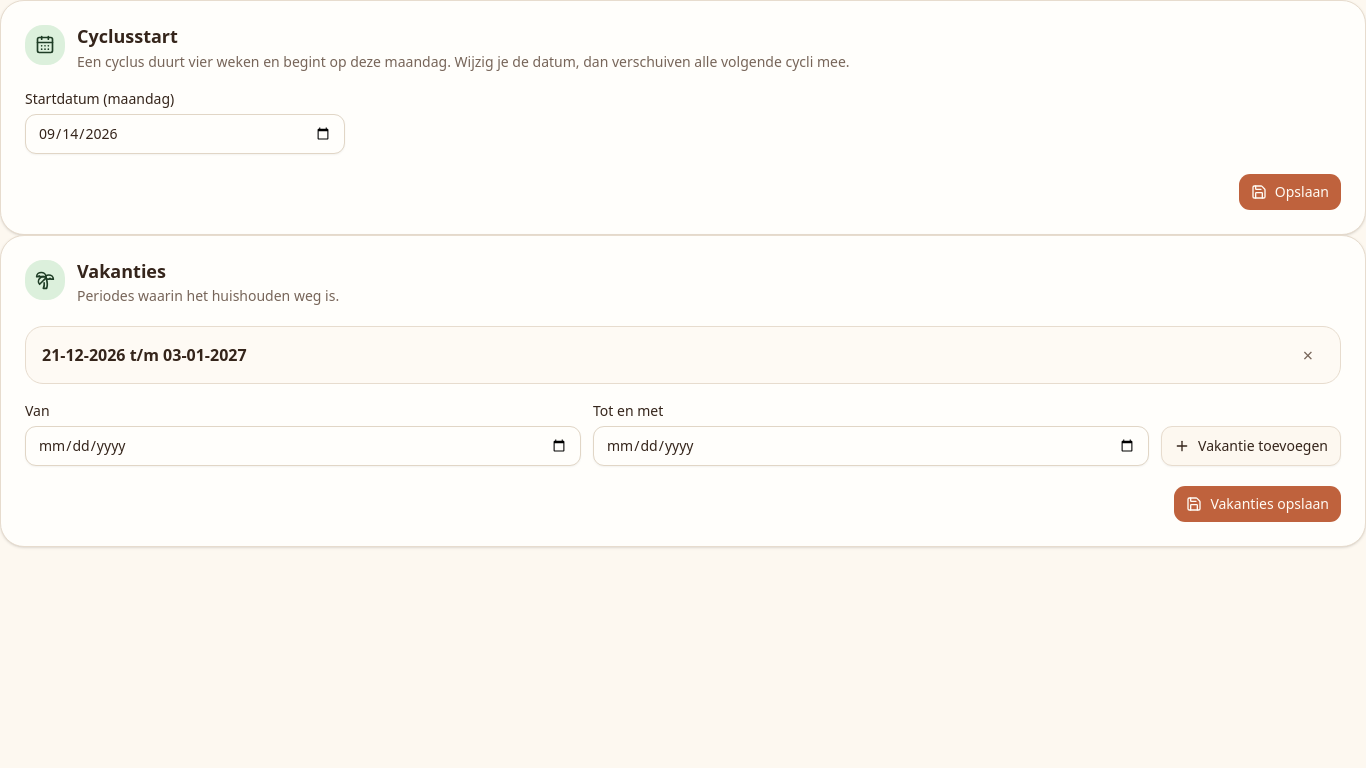
Test: CalendarSection — cycle anchor › only saves a Monday
The image size is (1366, 768).
Type "2026-10-13" into the date field labelled "Startdatum (maandag)".
click(185, 134); type("2026-10-13")  # box [25, 114, 345, 154]
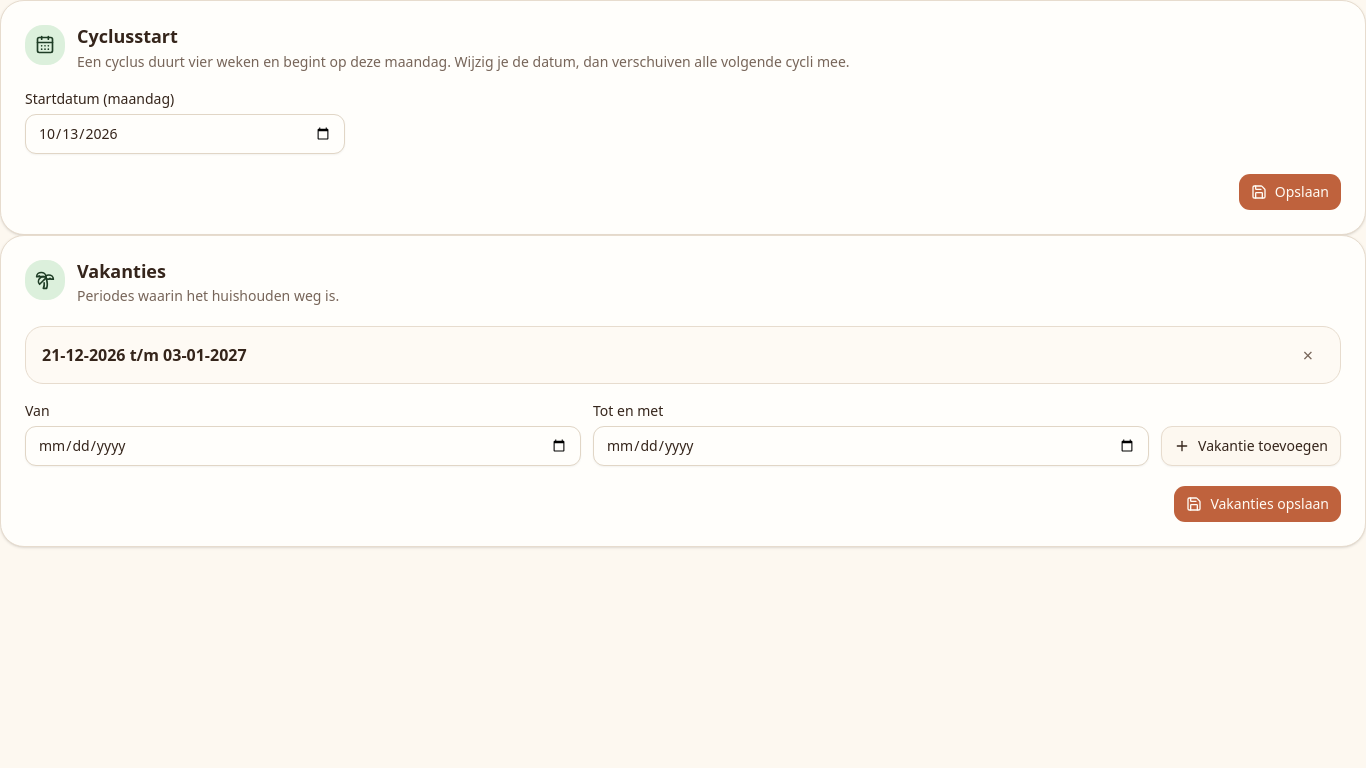
Click the button "Opslaan".
click(1290, 192)  # box [1239, 174, 1341, 210]
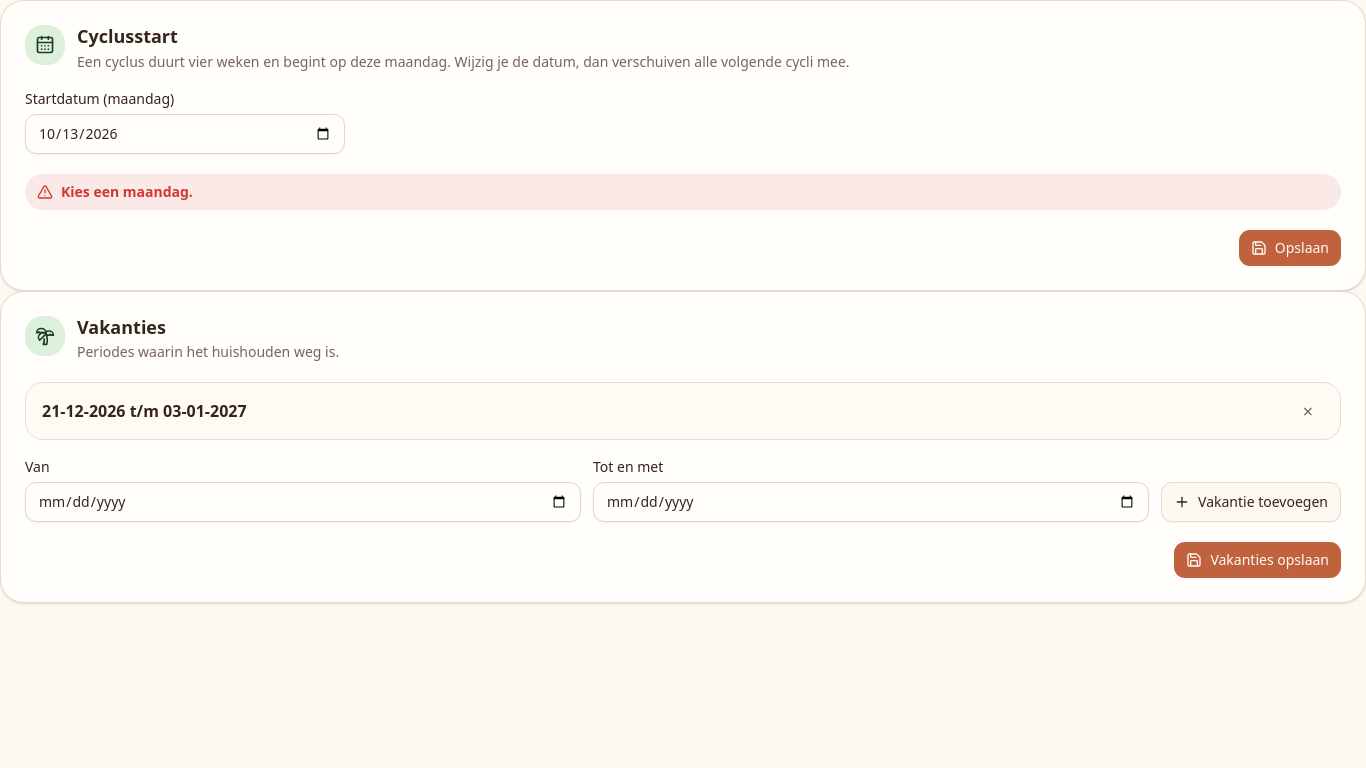
expect the message reads "Kies een maandag.": met, box [61, 182, 193, 200]
Type "2026-10-12" into the date field labelled "Startdatum (maandag)".
click(185, 134); type("2026-10-12")  # box [25, 114, 345, 154]
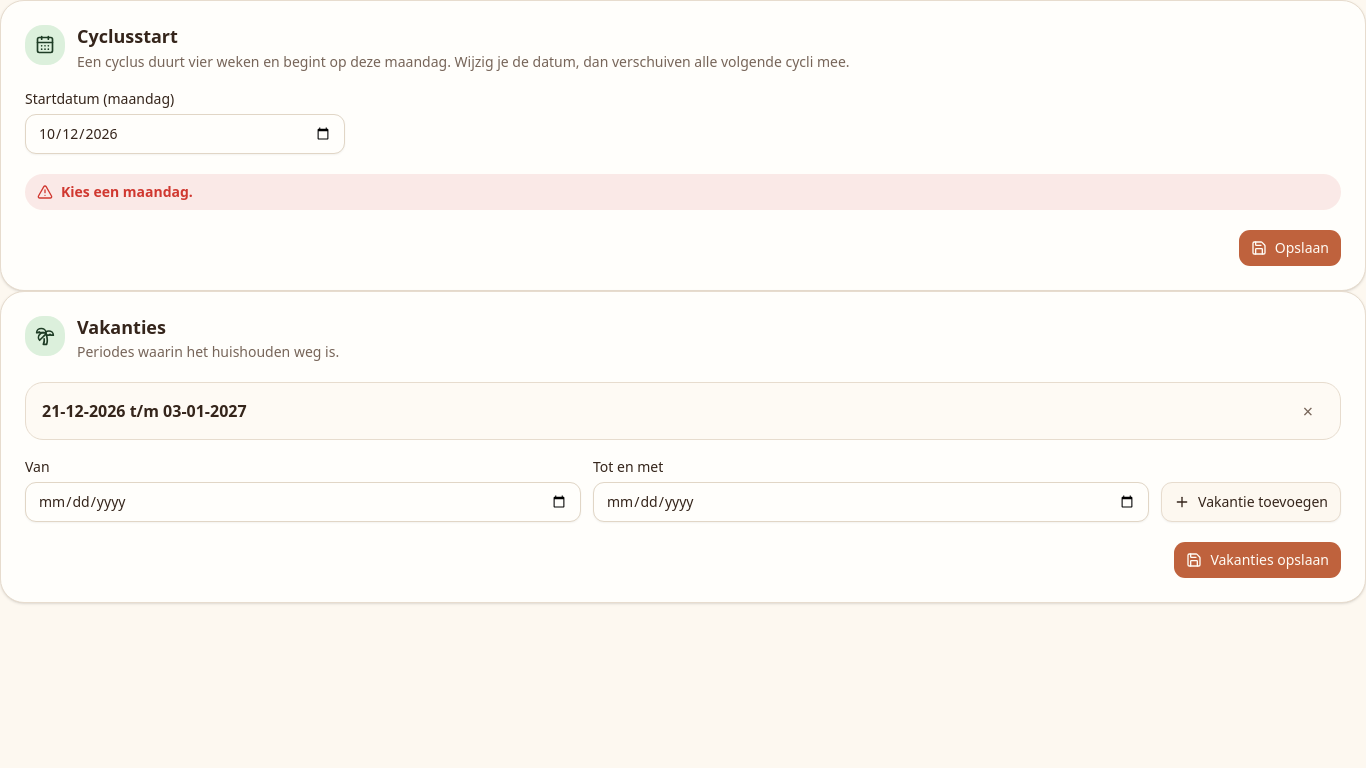
Click the button "Opslaan".
click(1290, 248)  # box [1239, 230, 1341, 266]
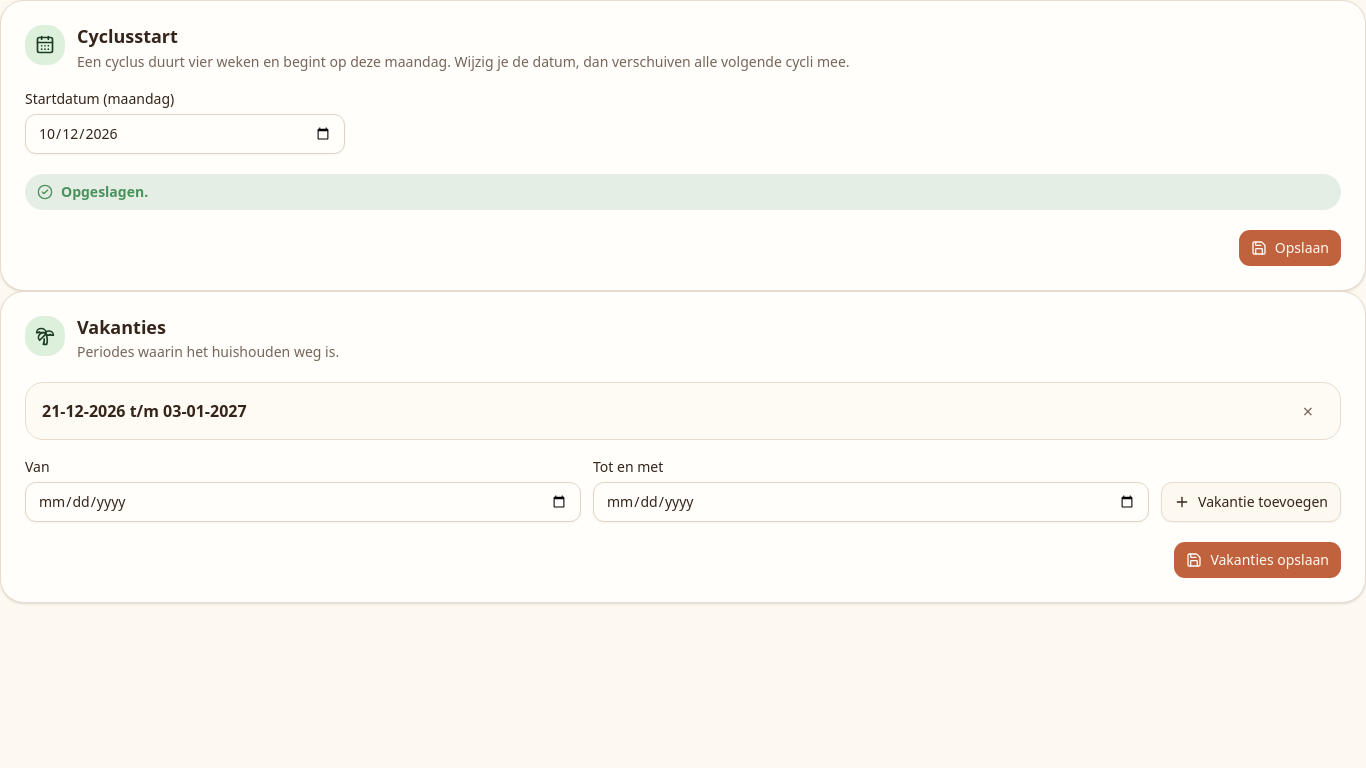
expect the message reads "Opgeslagen.": met, box [61, 182, 148, 200]
